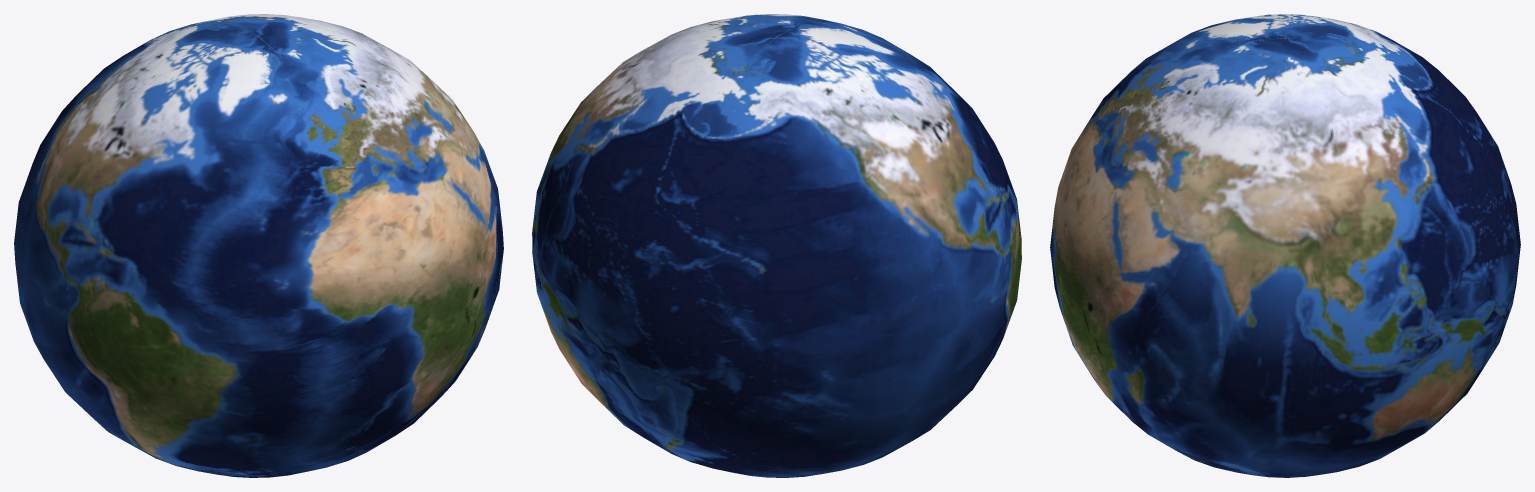
The model's file is earth.obj.
3 renders of one model, left to right at view 1: azimuth 30°, elevation 25°; view 2: azimuth 150°, elevation 25°; view 3: azimuth 270°, elevation 25°, orthographic.
Visible parts, largest first — view 1: Sphere; view 2: Sphere; view 3: Sphere.
Boxes of the visible parts, x1=… form: Sphere: x1=14, y1=14, x2=503, y2=477; Sphere: x1=532, y1=14, x2=1021, y2=477; Sphere: x1=1050, y1=14, x2=1520, y2=477.
Size of the model in its own units: 4.36 by 4.05 by 4.16.
Materials: 1 (1 with a texture image).
